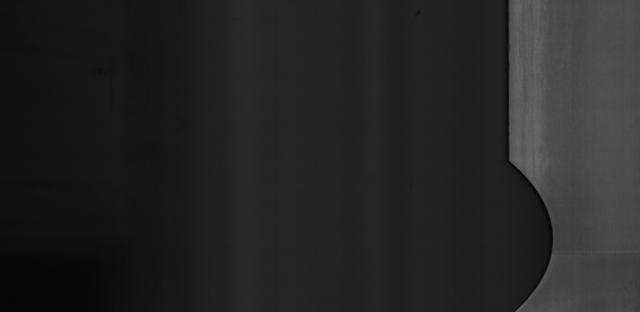crescent_gap: (488, 152, 562, 312)
welding_line: (546, 240, 640, 262)
